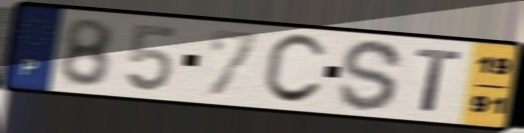5: (123, 22, 180, 93)
7: (206, 27, 260, 99)
8: (56, 16, 114, 89)
C: (259, 32, 330, 107)
S: (336, 37, 407, 114)
T: (413, 45, 465, 115)
